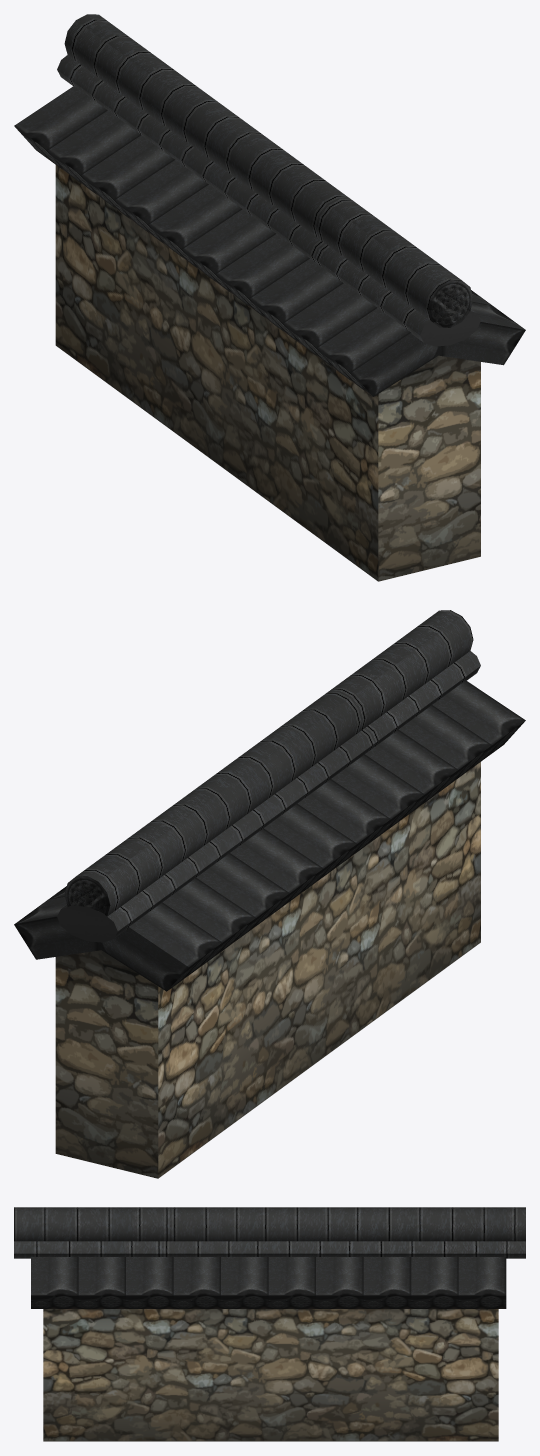
File: KoreanMansion_Wall_S.FBX
3 views of the same model, one above another, from view 1: azimuth 30°, elevation 25°; view 2: azimuth 150°, elevation 25°; view 3: azimuth 270°, elevation 25° (orthographic). The views are drawn at different scales.
Parts seen in each view (by area): view 1: KoreanMansion_Wall_S; view 2: KoreanMansion_Wall_S; view 3: KoreanMansion_Wall_S.
Boxes of the visible parts, x1=… form: KoreanMansion_Wall_S: x1=14, y1=14, x2=525, y2=581; KoreanMansion_Wall_S: x1=14, y1=610, x2=525, y2=1178; KoreanMansion_Wall_S: x1=14, y1=1207, x2=525, y2=1441.
Size of the model in its own units: 104 by 173 by 374.
